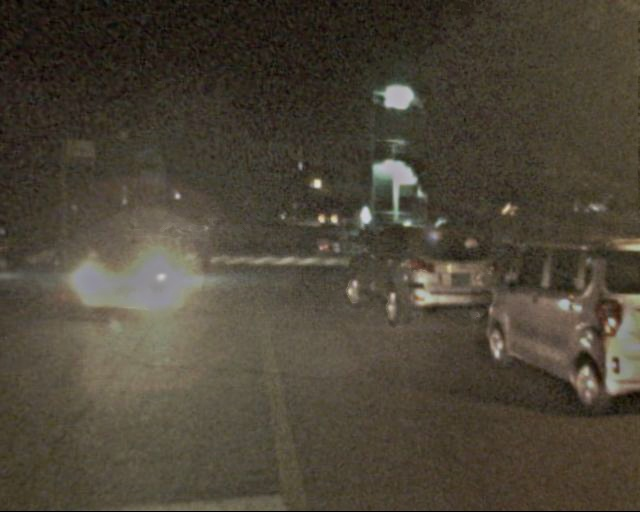person: (352, 224, 373, 275), (123, 217, 143, 266)
